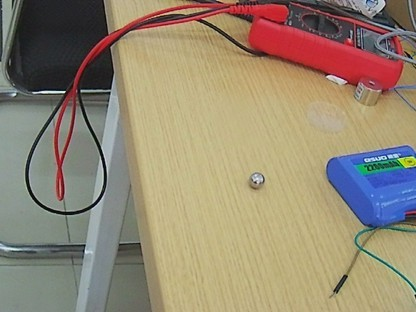ironball: (241, 166, 267, 191)
